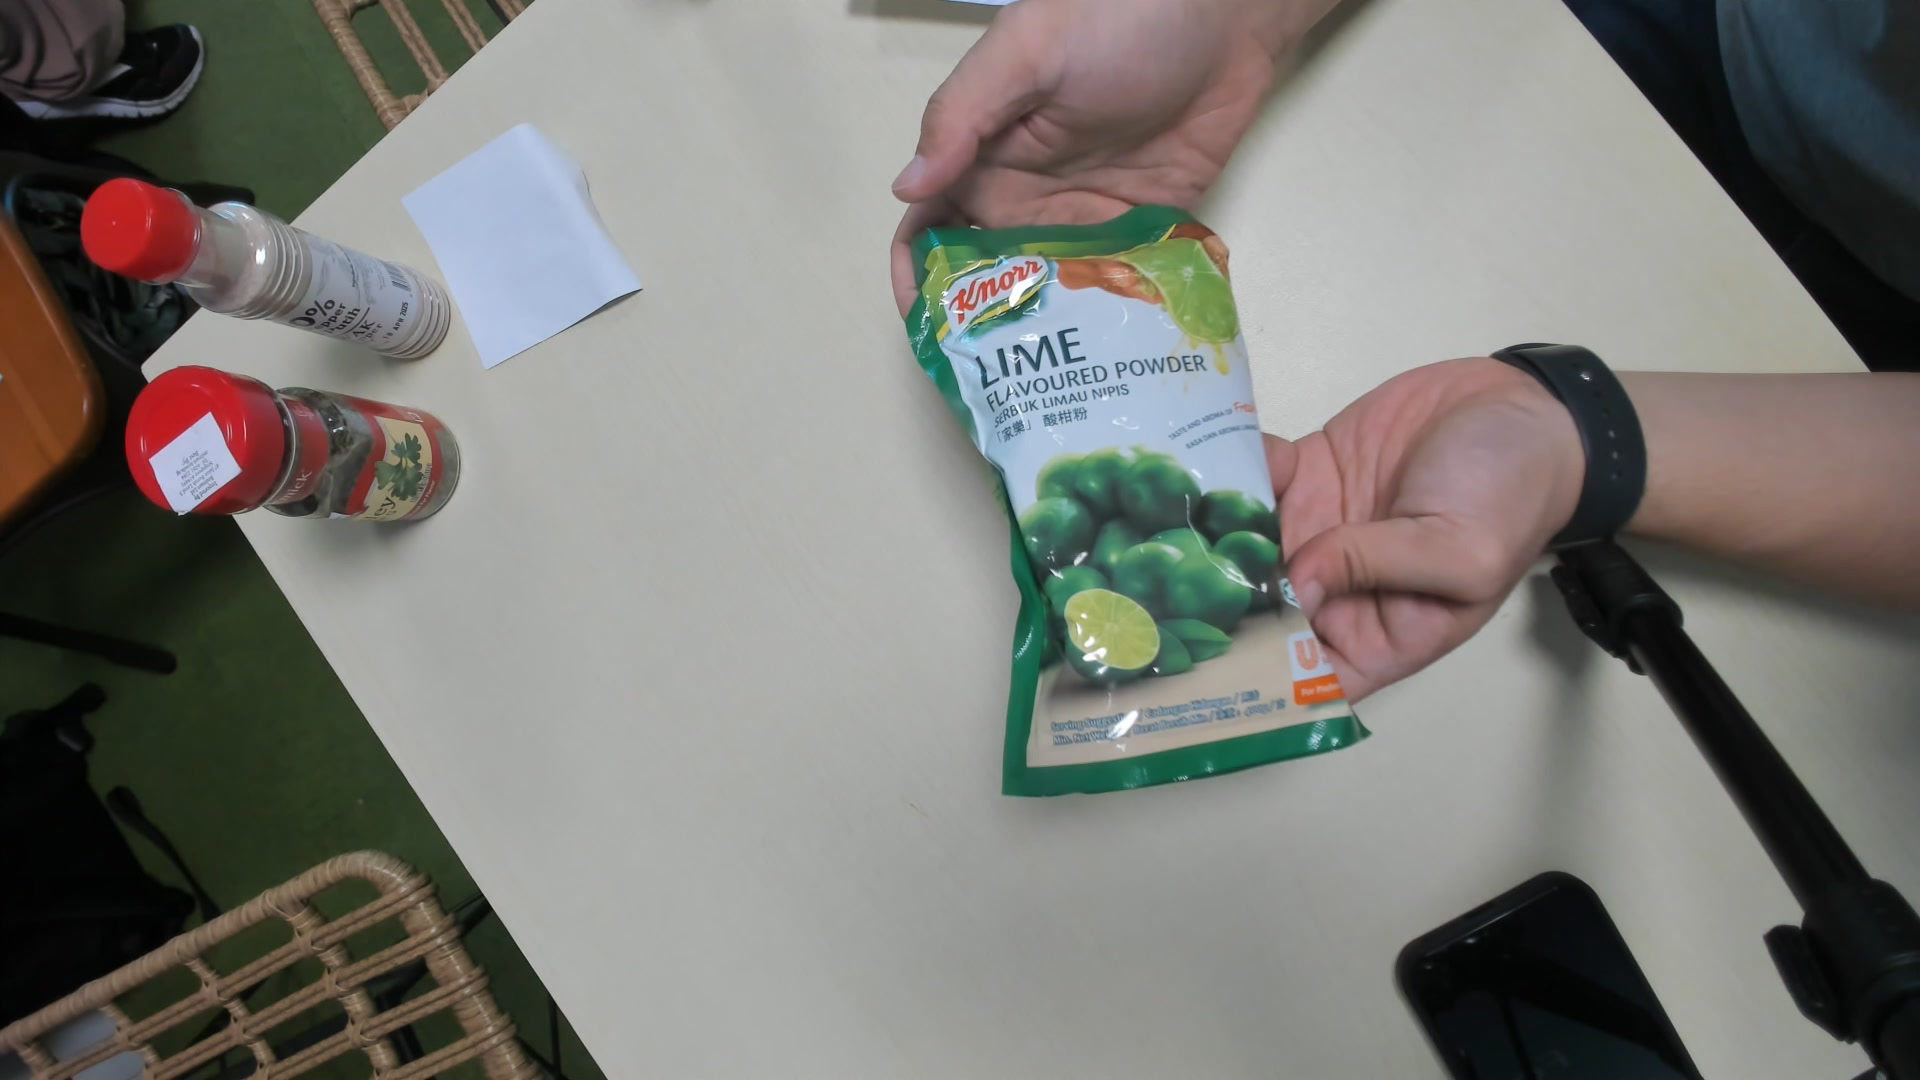HerbsSpicesPepper_400-499g_Halal_NonHealthy: (905, 214, 1361, 796)
